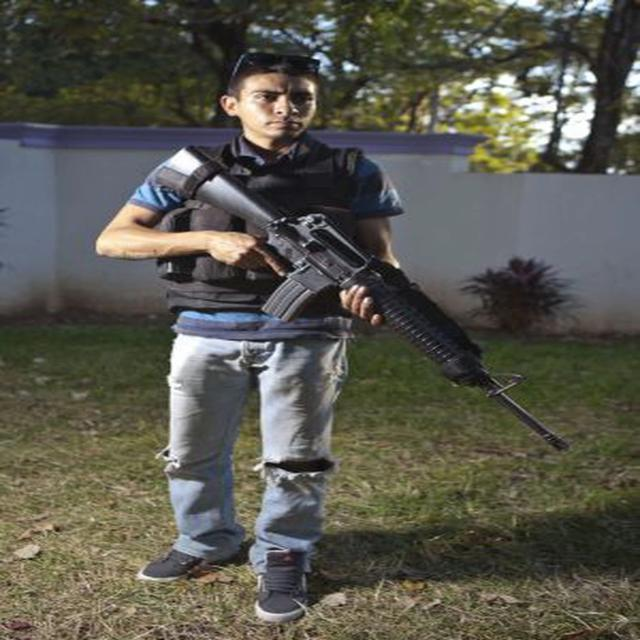weapon: (146, 148, 572, 453)
